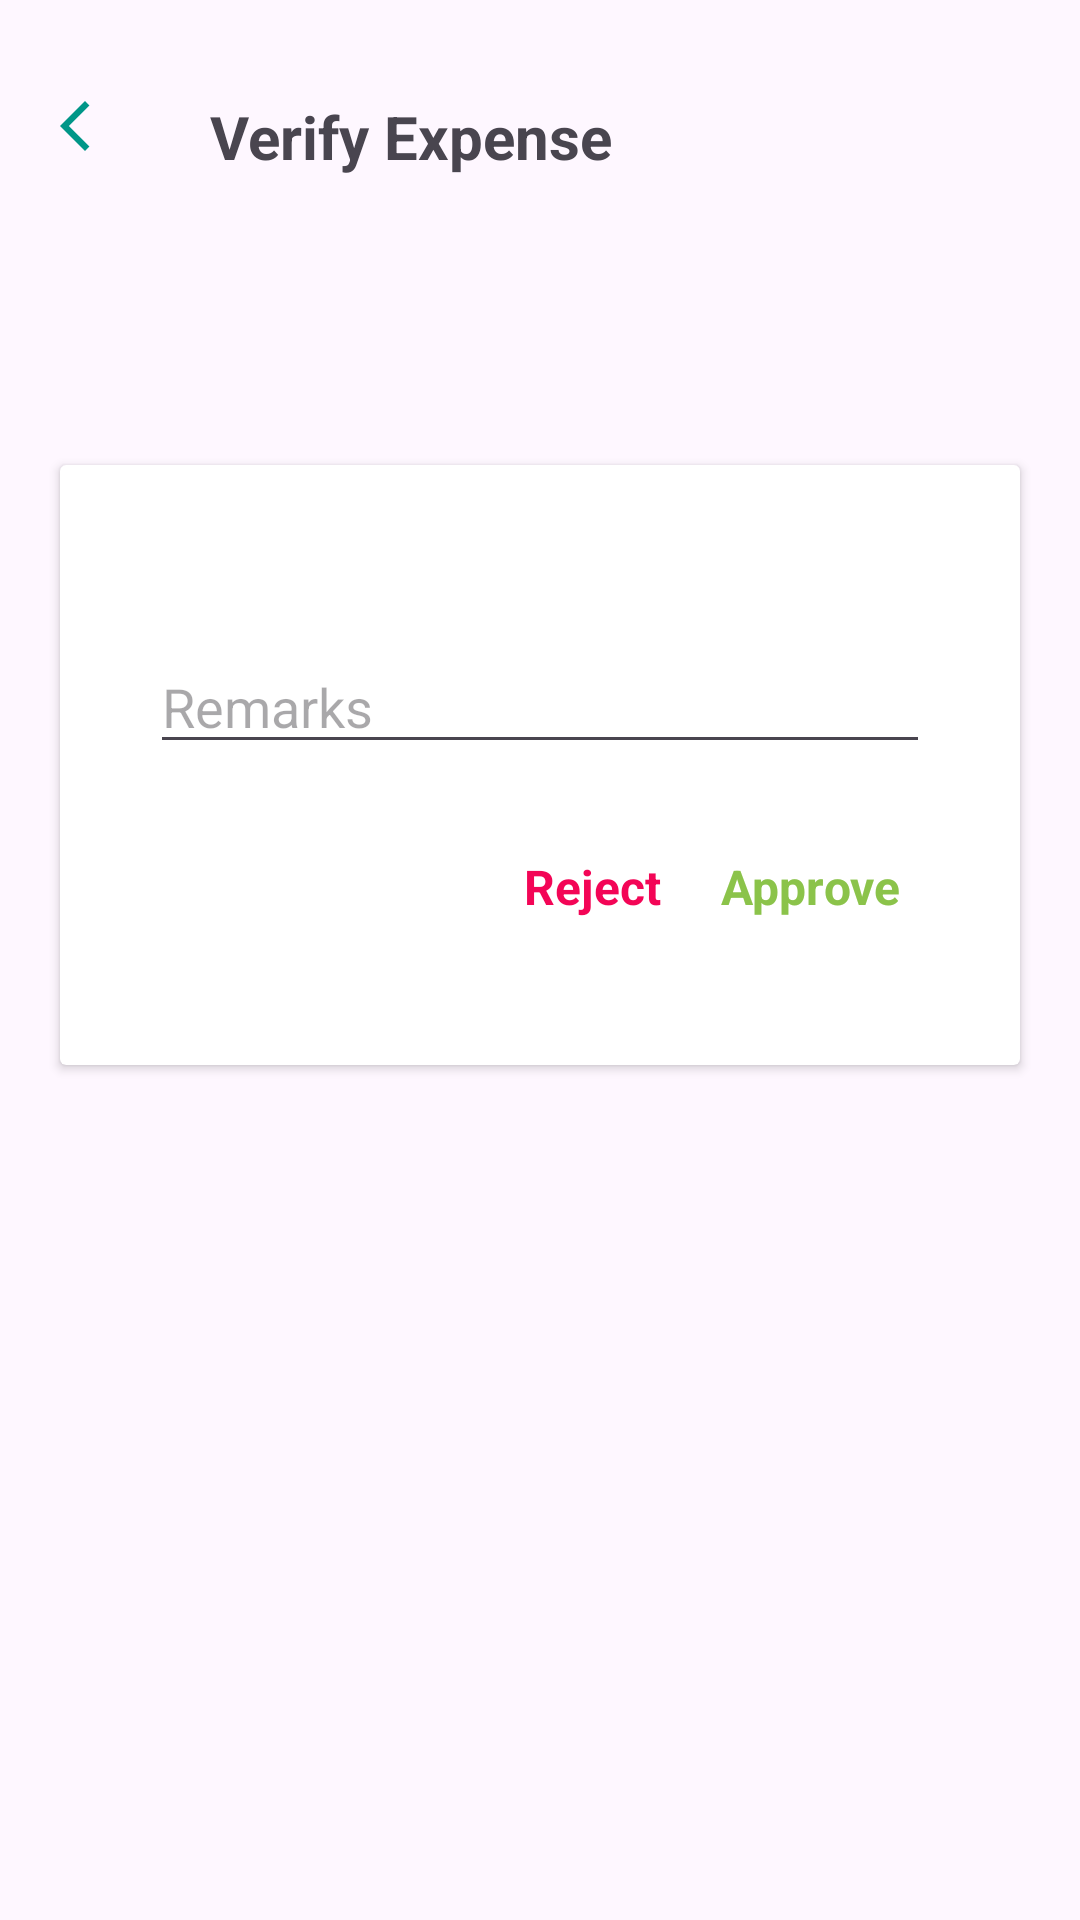

Locate icon controls on the screen. Image size 1080px x 1920px, boxes as [x1, y1, x2, y2].
back: [60, 101, 90, 151]
